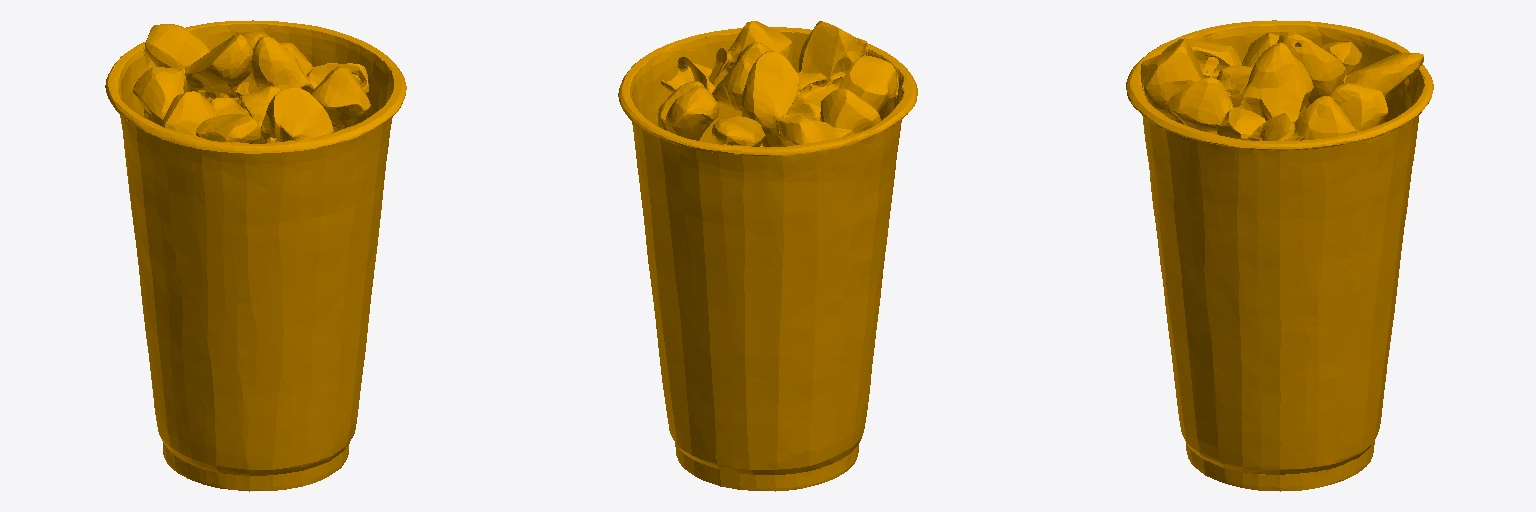
robot.urdf — sample:
<?xml version="1.0" ?>
<robot name="sample">
   <link name="sample">
      <visual>
         <origin xyz="0 0 0" rpy="1.5708 0.0 0.0"/>
         <geometry>
            <mesh filename="mesh/sample.obj" scale="1.0 1.0 1.0"/>
         </geometry>
      </visual>
      <collision>
         <origin xyz="0 0 0" rpy="1.5708 0.0 0.0"/>
         <geometry>
            <mesh filename="mesh/sample_collision.obj" scale="1.0 1.0 1.0"/>
         </geometry>
         <gazebo>
            <mu1>0.40</mu1>
            <mu2>0.30</mu2>
         </gazebo>
      </collision>
      <inertial>
         <mass value="0.1500"/>
         <origin xyz="0 0 0"/>
         <inertia ixx="1.0" ixy="0.0" ixz="0.0" iyy="1.0" iyz="0.0" izz="1.0"/>
      </inertial>
      <extra_info>
         <scale>0.135000</scale>
         <version>v0.1.7</version>
         <category>bottle drink</category>
         <description>paper cup with colorful design and fruit toppings</description>
         <min_height>0.12</min_height>
         <max_height>0.15</max_height>
         <real_height>0.135</real_height>
         <min_mass>0.1</min_mass>
         <max_mass>0.2</max_mass>
         <color>orange</color>
         <rgba>[0.9, 0.5, 0.2, 1.0]</rgba>
         <generate_time>20260526170334</generate_time>
         <gs_model>mesh/sample_gs.ply</gs_model>
      </extra_info>
   </link>
   <custom_data>
      <quality>
         <MeshGeoChecker>YES</MeshGeoChecker>
         <ImageSegChecker>NO. Object is not fully extracted; background artifacts remain and segmentation is incomplete.</ImageSegChecker>
         <ImageAestheticChecker>4.7356343269348145</ImageAestheticChecker>
         <overall>NO</overall>
      </quality>
   </custom_data>
</robot>

--- Facts derived from the render (not from the file) ---
The picture shows the robot from 3 angles, left to right: view 1: azimuth 30°, elevation 25°; view 2: azimuth 150°, elevation 25°; view 3: azimuth 270°, elevation 25°; orthographic projection.
Robot: sample — 1 links, 0 joints (none); root link sample; default pose: all joints at 0.
Links seen in each view (by area): view 1: sample; view 2: sample; view 3: sample.
Boxes of the visible links, x1,y1,x2,y2 form: sample: [105, 20, 406, 491]; sample: [618, 21, 917, 491]; sample: [1126, 20, 1433, 491].
Bounding box of the posed robot: 0.0882 × 0.0908 × 0.135 m (x, y, z).
1 mesh visuals loaded from 1 distinct referenced files (1 OBJ).
